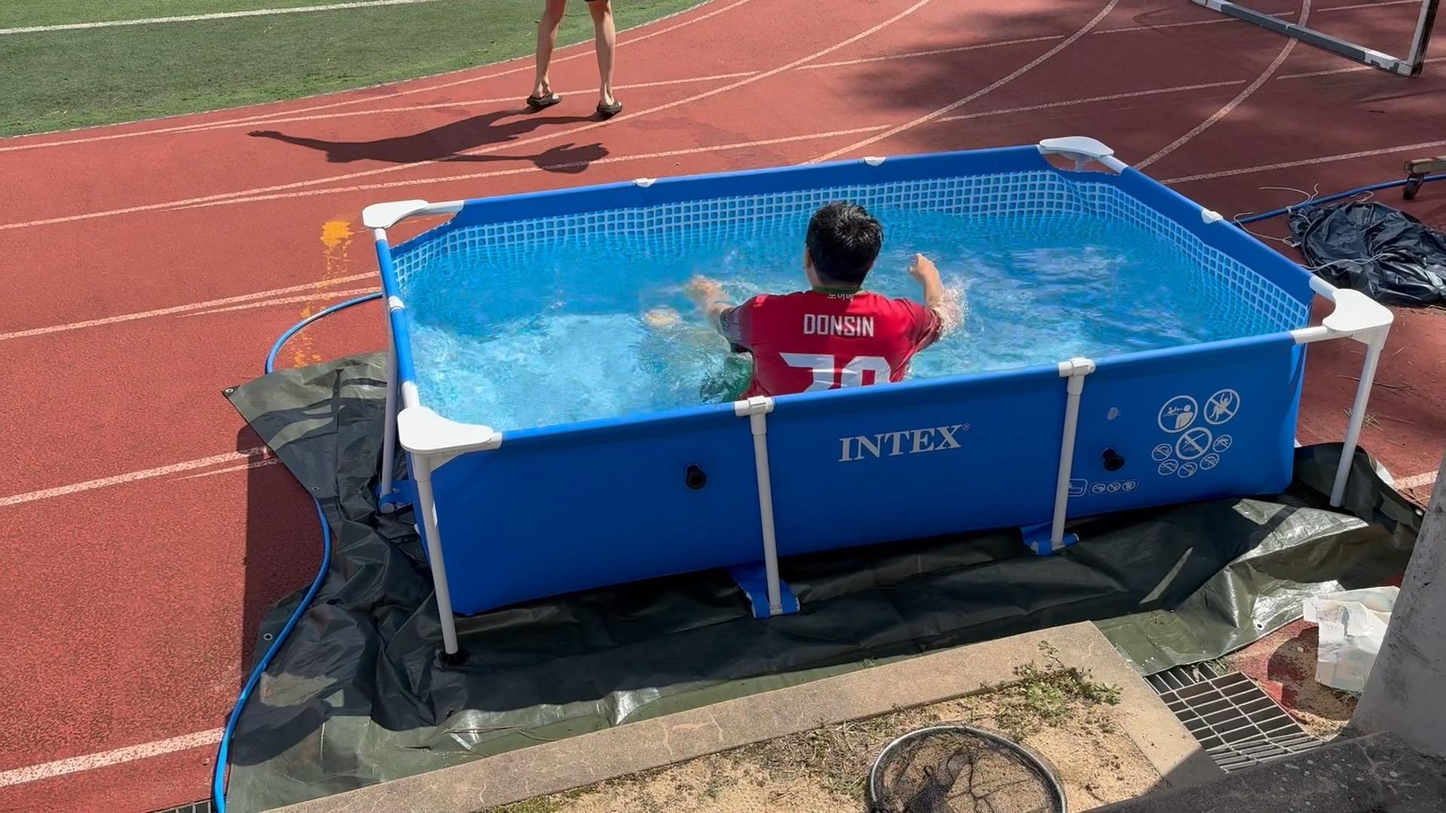Swimming: (630, 176, 995, 405)
